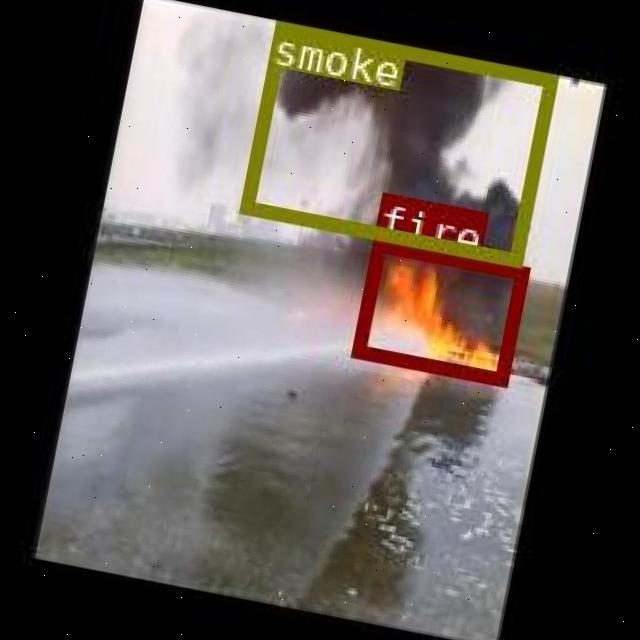fire: (351, 236, 527, 382)
smoke: (238, 20, 554, 264)
